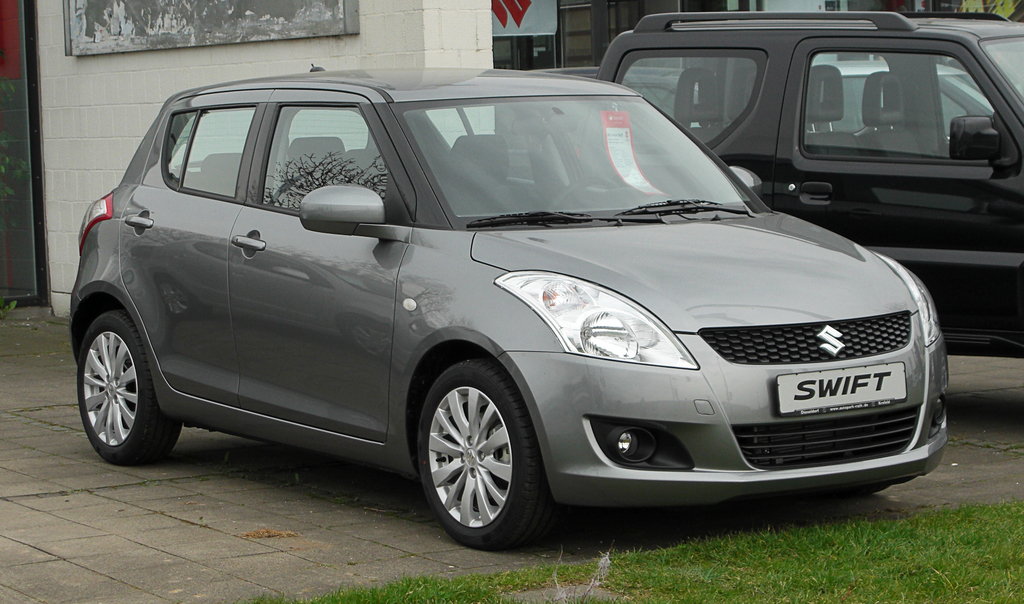Car: (66, 55, 930, 554), (593, 8, 1023, 357), (744, 58, 997, 141), (527, 65, 697, 122)
